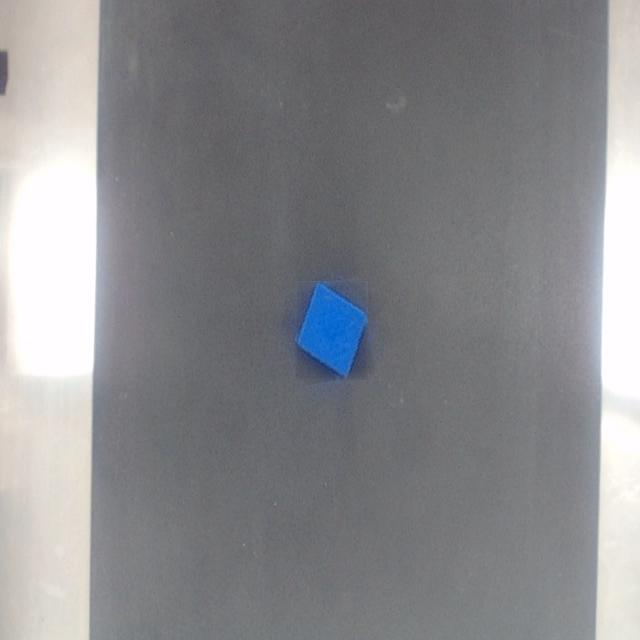Azul: (297, 283, 366, 378)
